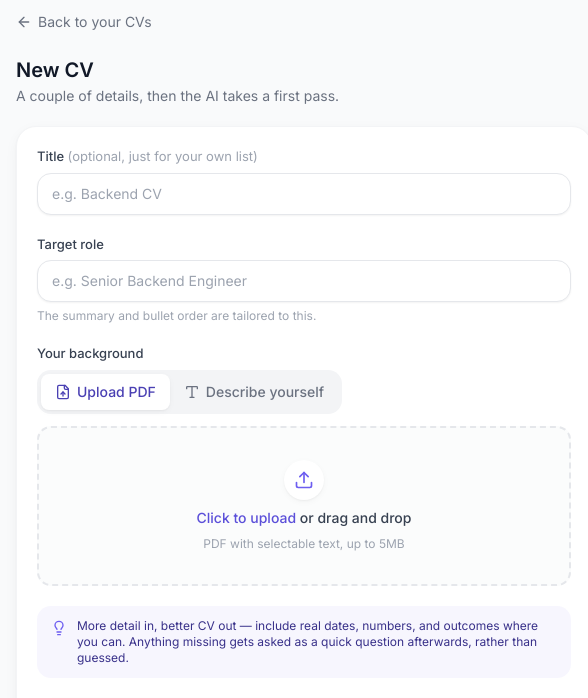
Test: NewCvPage › switching to 'Describe yourself' shows the textarea instead of the PDF dropzone
Check: the text "Click to upload" is shown, box [196, 508, 296, 526]
Click the button "Describe yourself": (254, 392) [170, 374, 338, 410]
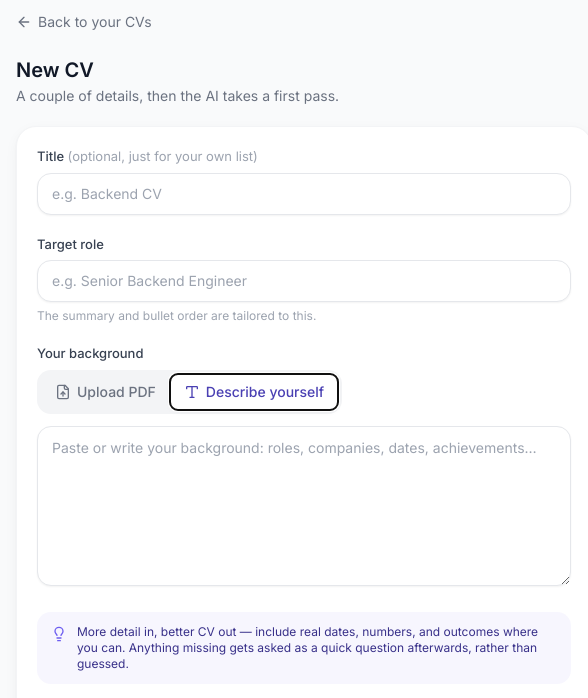
Check: the button "Click to upload" is gone
Check: the text box with placeholder "Paste or write your background" is shown, box [37, 426, 571, 586]
